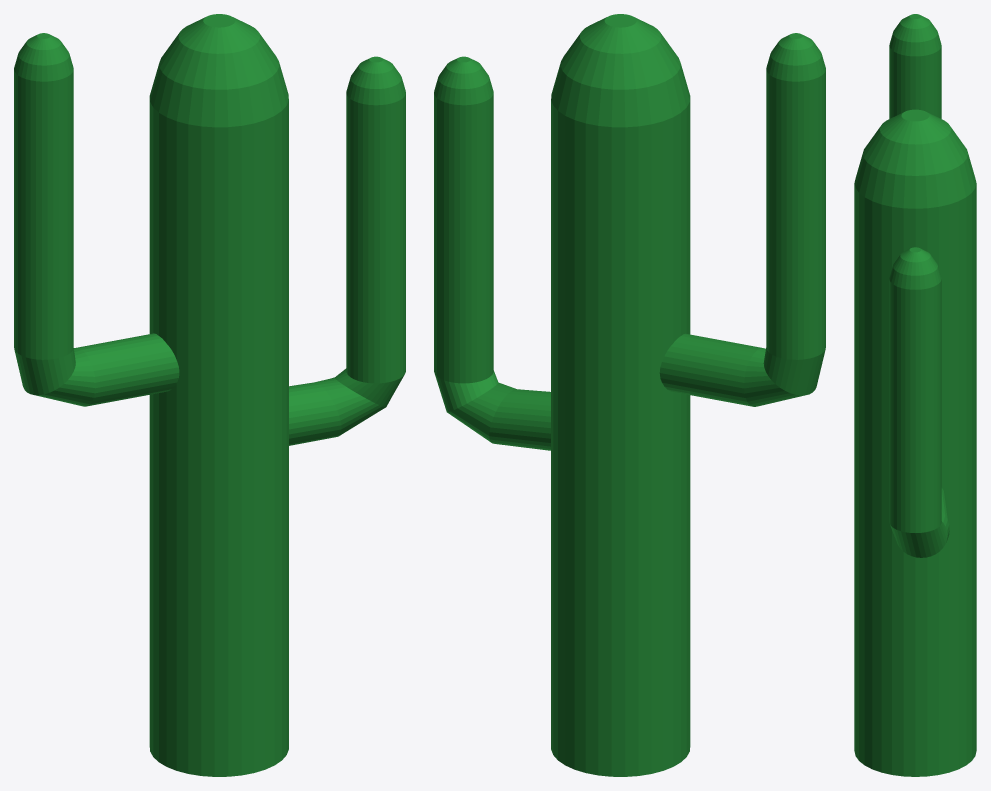
File: cactus2.fbx
The picture shows the model from 3 angles, left to right: view 1: azimuth 30°, elevation 25°; view 2: azimuth 150°, elevation 25°; view 3: azimuth 270°, elevation 25°; orthographic projection. The views are drawn at different scales.
Visible parts, largest first — view 1: Icosphere; view 2: Icosphere; view 3: Icosphere.
Boxes of the visible parts, x1,y1,x2,y2 form: Icosphere: (14, 14, 405, 776); Icosphere: (434, 14, 825, 776); Icosphere: (854, 14, 976, 776).
Bounding box in the file's own units: 971 × 1822 × 306.
